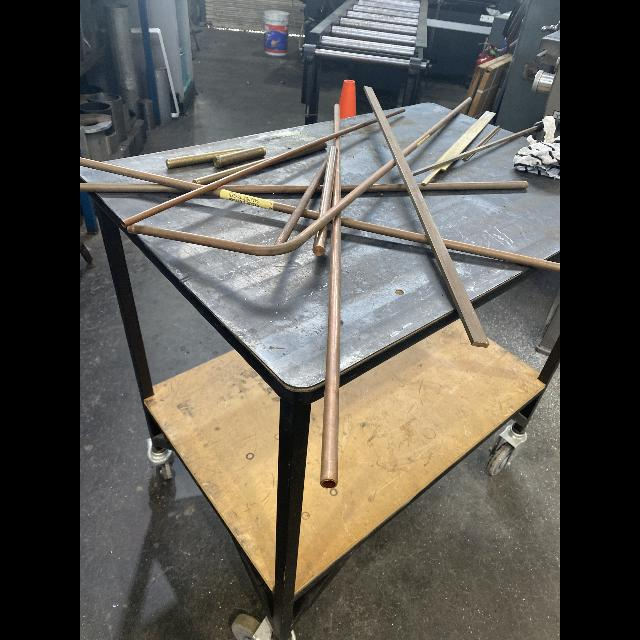Brass: (363, 85, 489, 347), (412, 126, 537, 176), (435, 110, 496, 163), (192, 154, 280, 185), (166, 148, 244, 169), (269, 142, 327, 166), (213, 145, 266, 168), (421, 162, 453, 185), (472, 125, 501, 149), (461, 153, 474, 161)
Copper: (121, 118, 377, 227), (127, 159, 396, 256), (321, 214, 341, 488), (274, 154, 328, 244), (80, 157, 206, 191), (402, 97, 472, 158), (442, 238, 560, 273), (341, 217, 430, 245), (318, 146, 338, 218), (417, 181, 528, 190), (80, 183, 190, 192), (217, 185, 309, 193), (332, 136, 341, 207), (312, 223, 328, 256), (365, 184, 407, 192), (273, 202, 297, 215), (385, 108, 405, 118), (301, 209, 319, 220), (334, 104, 340, 133), (203, 188, 221, 197), (341, 185, 360, 192), (315, 185, 323, 193)
